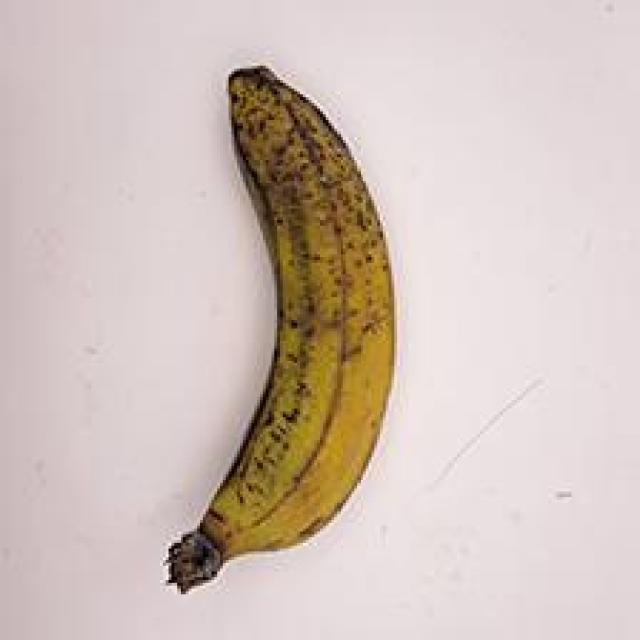Overripe: (130, 40, 431, 599)
